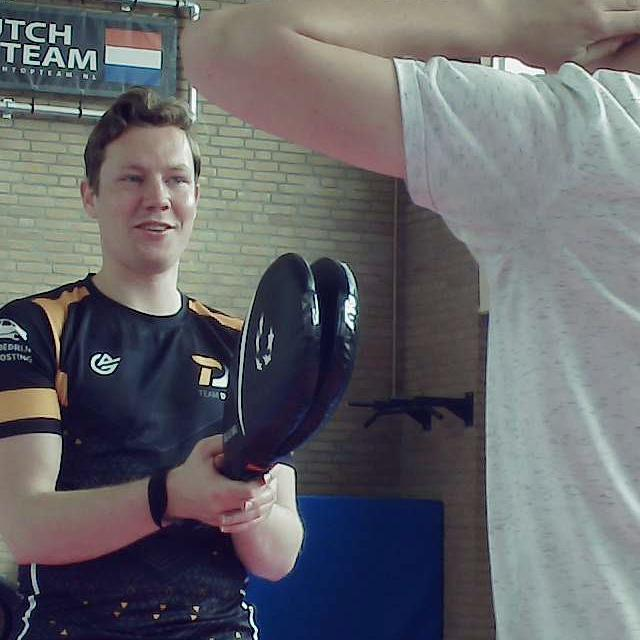paddle: (221, 256, 358, 480)
